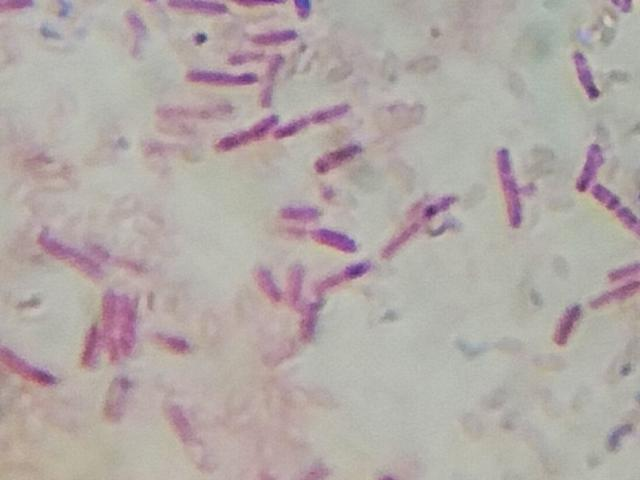E. coli: (2, 344, 58, 387), (277, 106, 357, 136), (498, 144, 526, 226), (597, 181, 640, 234), (47, 235, 95, 279), (377, 214, 424, 256), (216, 117, 272, 150), (284, 226, 360, 250), (576, 49, 609, 101), (256, 52, 285, 106), (104, 370, 133, 423), (569, 141, 602, 187), (318, 141, 361, 176), (596, 281, 640, 314), (196, 69, 255, 93), (100, 292, 121, 359), (553, 299, 581, 346), (122, 301, 144, 356), (319, 266, 379, 286), (290, 306, 322, 340), (98, 244, 132, 274), (165, 404, 193, 439), (289, 260, 313, 300), (164, 0, 228, 14), (419, 191, 456, 215), (153, 326, 188, 351), (257, 262, 282, 296), (124, 14, 145, 53), (80, 326, 103, 361), (250, 30, 298, 46), (229, 44, 262, 65), (610, 258, 640, 277), (293, 0, 319, 19), (240, 0, 280, 11), (156, 76, 157, 77)
